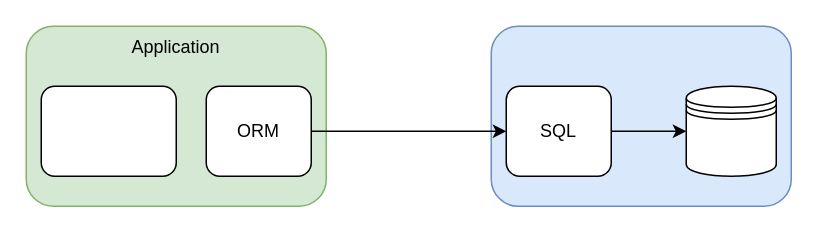
This 818x233 diagram has some shape labels left out. The shapes that lost their labels are listed below. From the top down, each one's box as (x1, y1, x2, y2) in pixels, then its label:
(40, 85, 176, 176): Application Logic
(490, 25, 791, 206): Database
